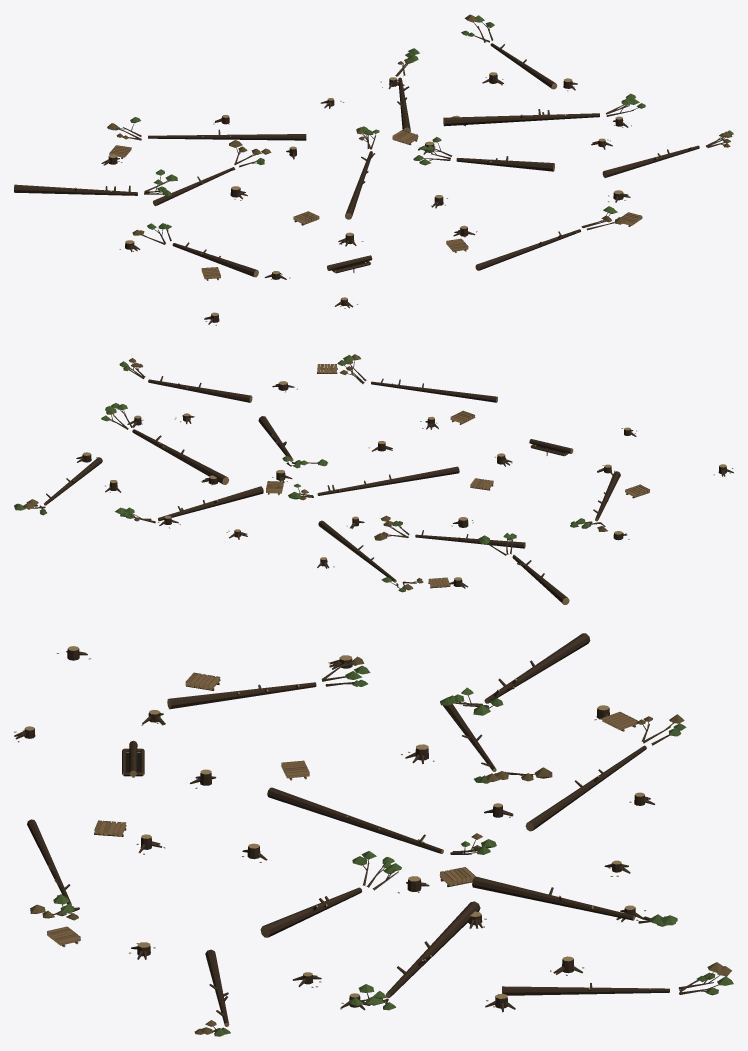
File: clearing.glb
3 views of the same model, one above another, from view 1: azimuth 30°, elevation 25°; view 2: azimuth 150°, elevation 25°; view 3: azimuth 270°, elevation 25° (orthographic). The views are drawn at different scales.
Parts seen in each view (by area): view 1: clearing_1, clearing_3, clearing_2; view 2: clearing_1, clearing_2, clearing_3; view 3: clearing_2, clearing_3, clearing_1.
Boxes of the visible parts, box(x1,y1,x2,y2) form: clearing_1: box(101, 48, 645, 225); clearing_3: box(14, 14, 626, 325); clearing_2: box(119, 116, 733, 279); clearing_1: box(101, 403, 525, 592); clearing_2: box(119, 358, 629, 540); clearing_3: box(14, 354, 733, 604); clearing_2: box(47, 655, 496, 1036); clearing_3: box(14, 633, 733, 1012); clearing_1: box(281, 704, 686, 1010).
Bounding box in the file's own units: 208 × 9.97 × 155.
